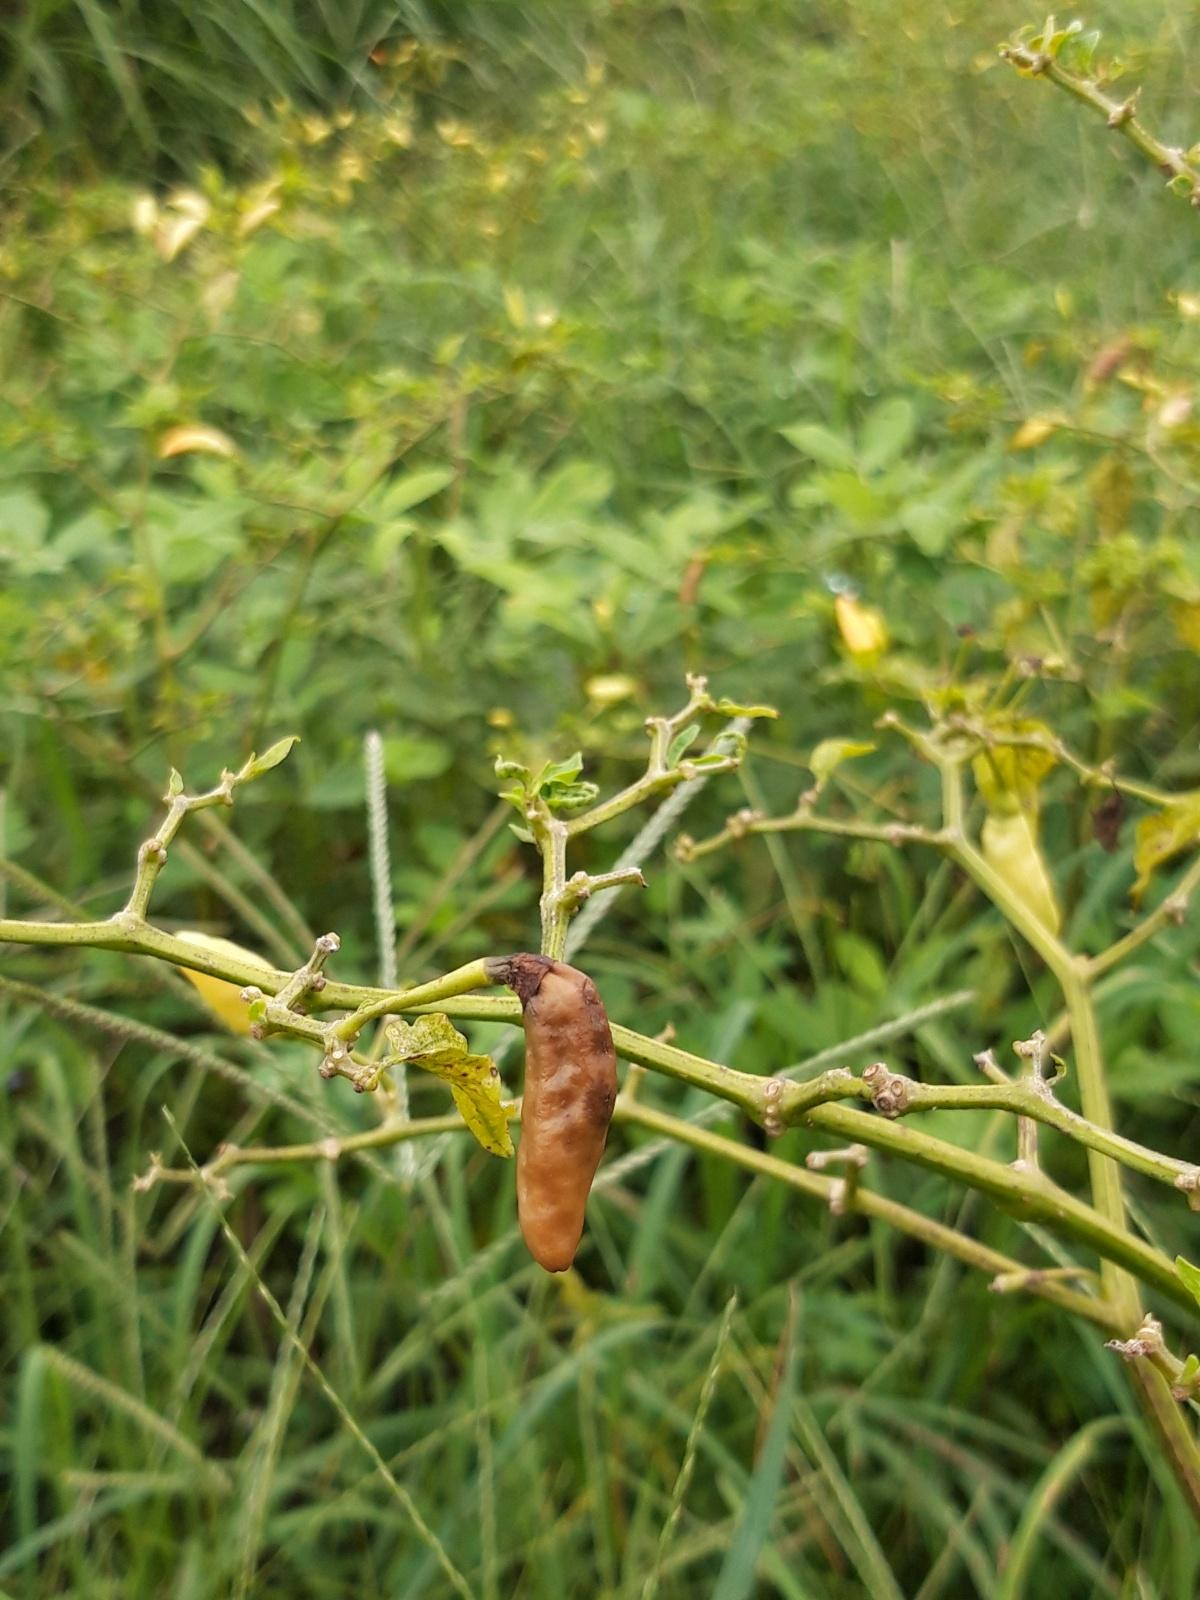cabai_normal: (981, 803, 1063, 940)
lalat_buah: (484, 947, 618, 1274)
